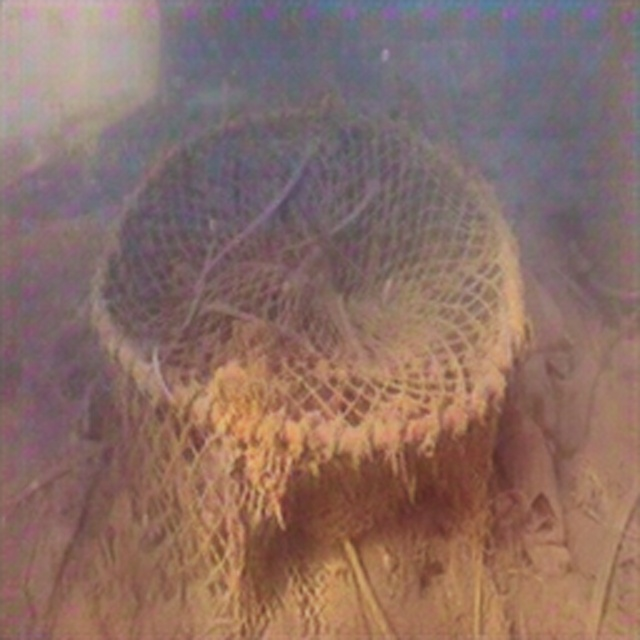mine: (88, 105, 523, 624)
